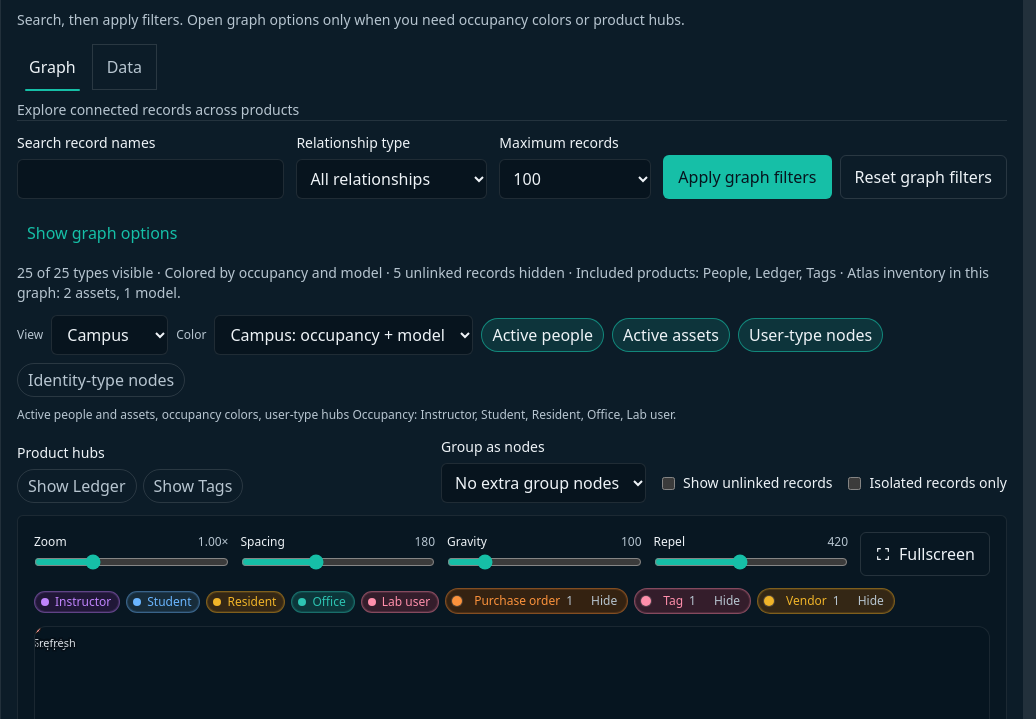
Test case: exposes the Atlas query editor and group-by dropdown on the data tab
What coordinates should you click on to do the following:
click the tab "Data"
I would click on:
 (124, 67)
Its box is [92,44,157,90].
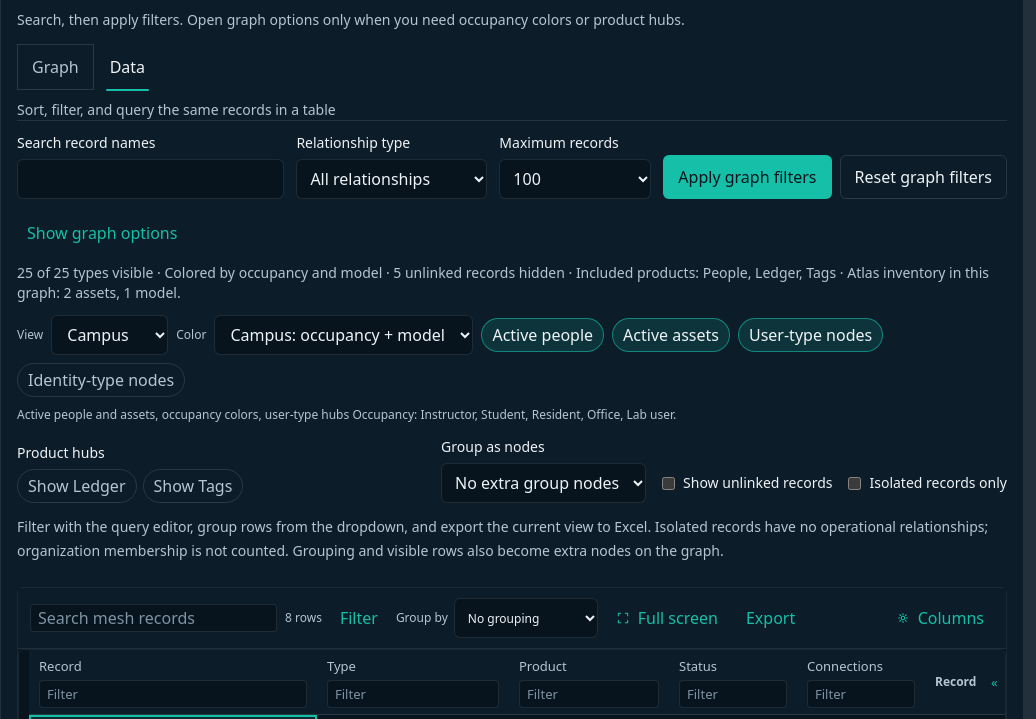
Now the button "Filter" is shown
Now the dropdown named "Group Mesh records" is shown, box [454,598,598,638]
Now the button "Export" is shown, box [736,596,805,640]
What coordinates should you click on to do the following:
click the button "Filter"
I would click on:
 (359, 618)
Its box is [330,596,388,640].
(page scrolled)
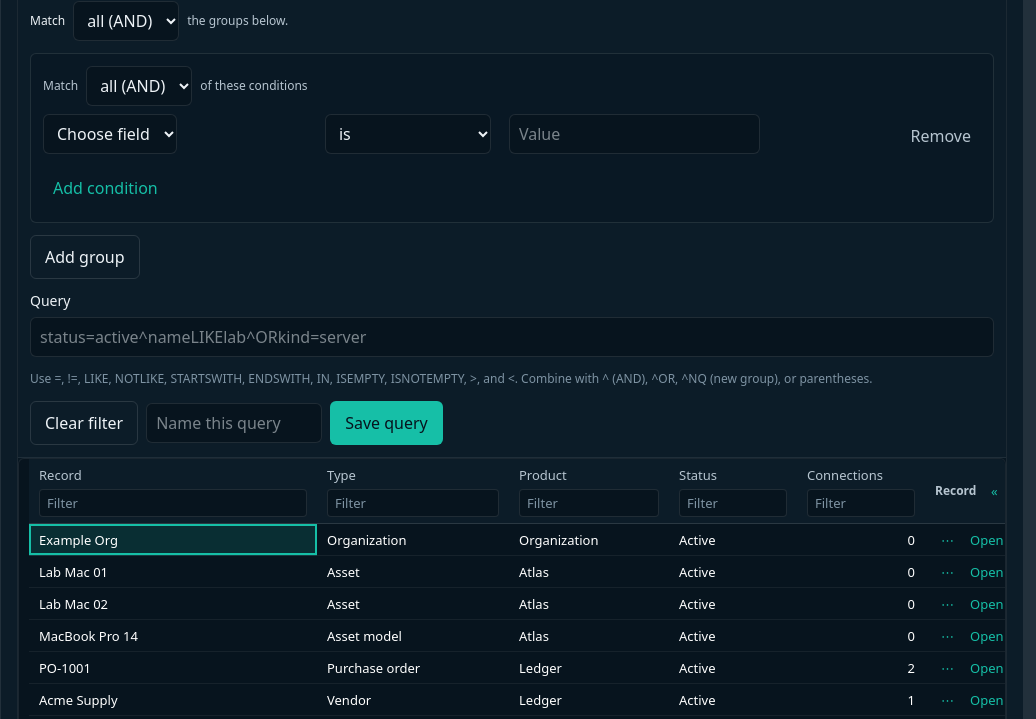
Now the field labelled "Query" is shown, box [30,317,994,357]
